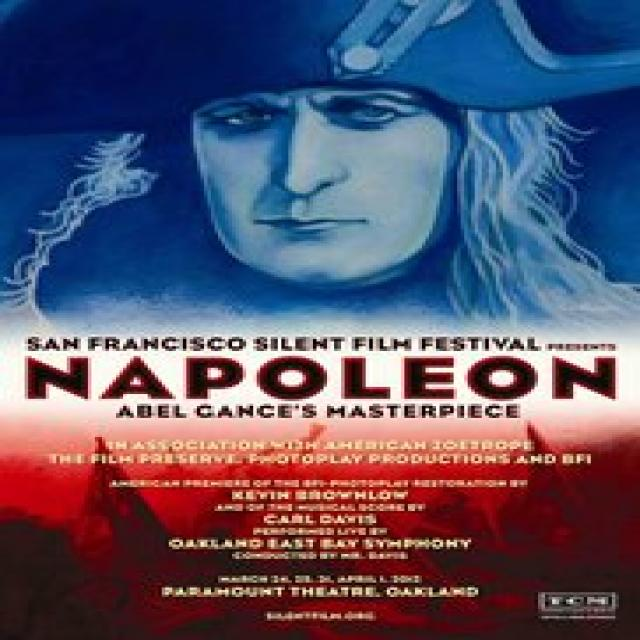movie-judul: (17, 430, 636, 634), (2, 326, 640, 431)
picture: (1, 1, 635, 636)
